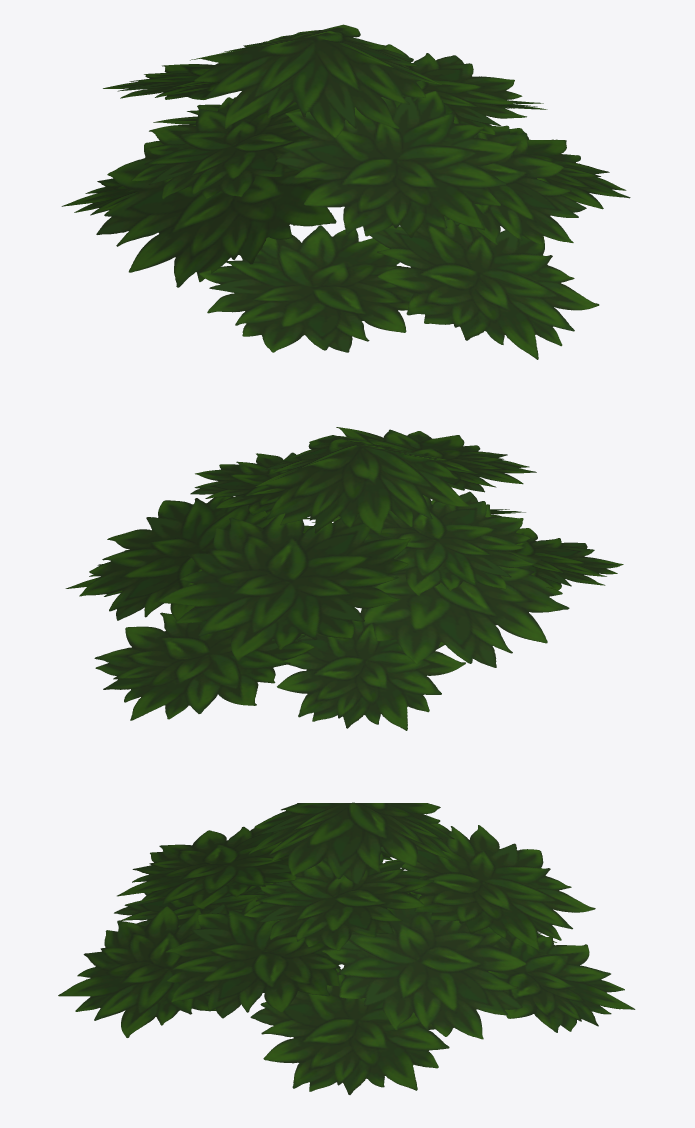
Rendered from Small_Bush_01.fbx.
The picture shows the model from 3 angles, top to bottom: view 1: azimuth 30°, elevation 25°; view 2: azimuth 150°, elevation 25°; view 3: azimuth 270°, elevation 25°; orthographic projection. The views are drawn at different scales.
Visible parts, largest first — view 1: Small_Bush_01; view 2: Small_Bush_01; view 3: Small_Bush_01.
Boxes of the visible parts, x1,y1,x2,y2 form: Small_Bush_01: (61,24,630,359); Small_Bush_01: (65,427,623,730); Small_Bush_01: (58,802,635,1094).
Bounding box in the file's own units: 7.37 × 2.65 × 8.51.
Materials: 1 (1 with a texture image).
